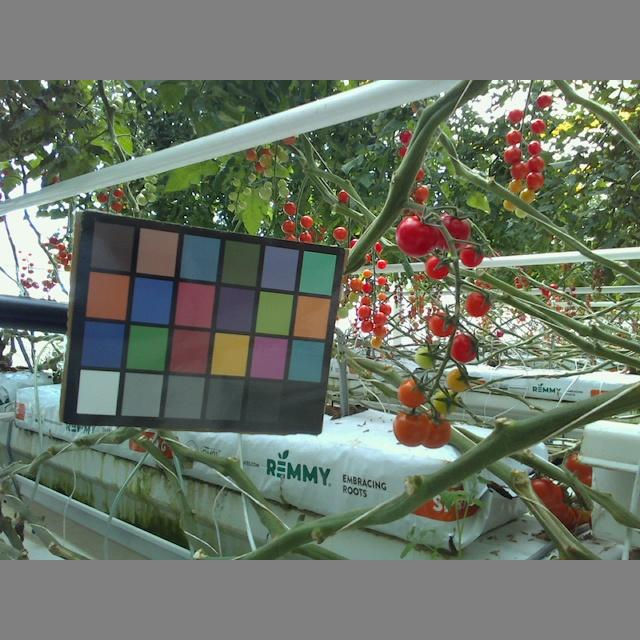green: (413, 344, 442, 368), (431, 390, 452, 411)
pink: (395, 414, 428, 443), (398, 378, 424, 409), (429, 417, 452, 447), (449, 367, 471, 392)
red: (397, 212, 442, 256), (529, 474, 562, 506), (441, 214, 470, 248), (450, 333, 478, 364), (428, 309, 456, 337), (458, 243, 486, 269), (570, 453, 591, 484), (421, 257, 449, 279), (469, 289, 490, 317), (394, 144, 415, 157), (400, 126, 411, 144), (338, 188, 349, 202)
